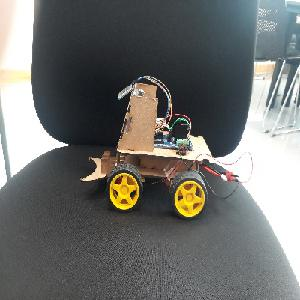Robot: (78, 76, 216, 220)
